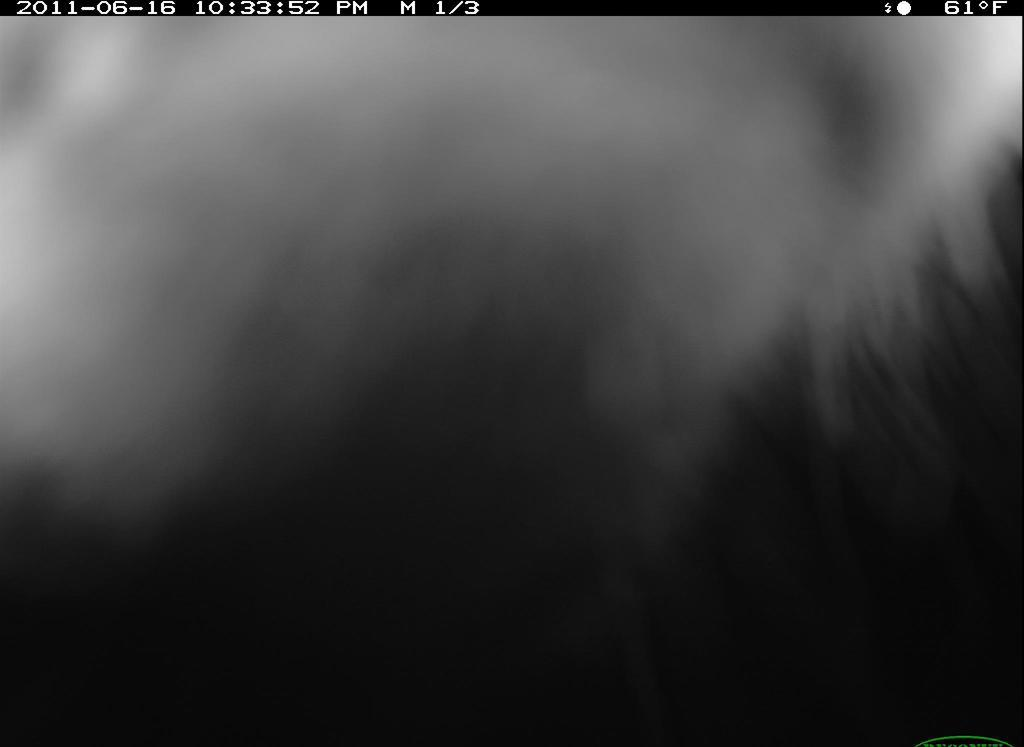raccoon: (1, 4, 1019, 725)
